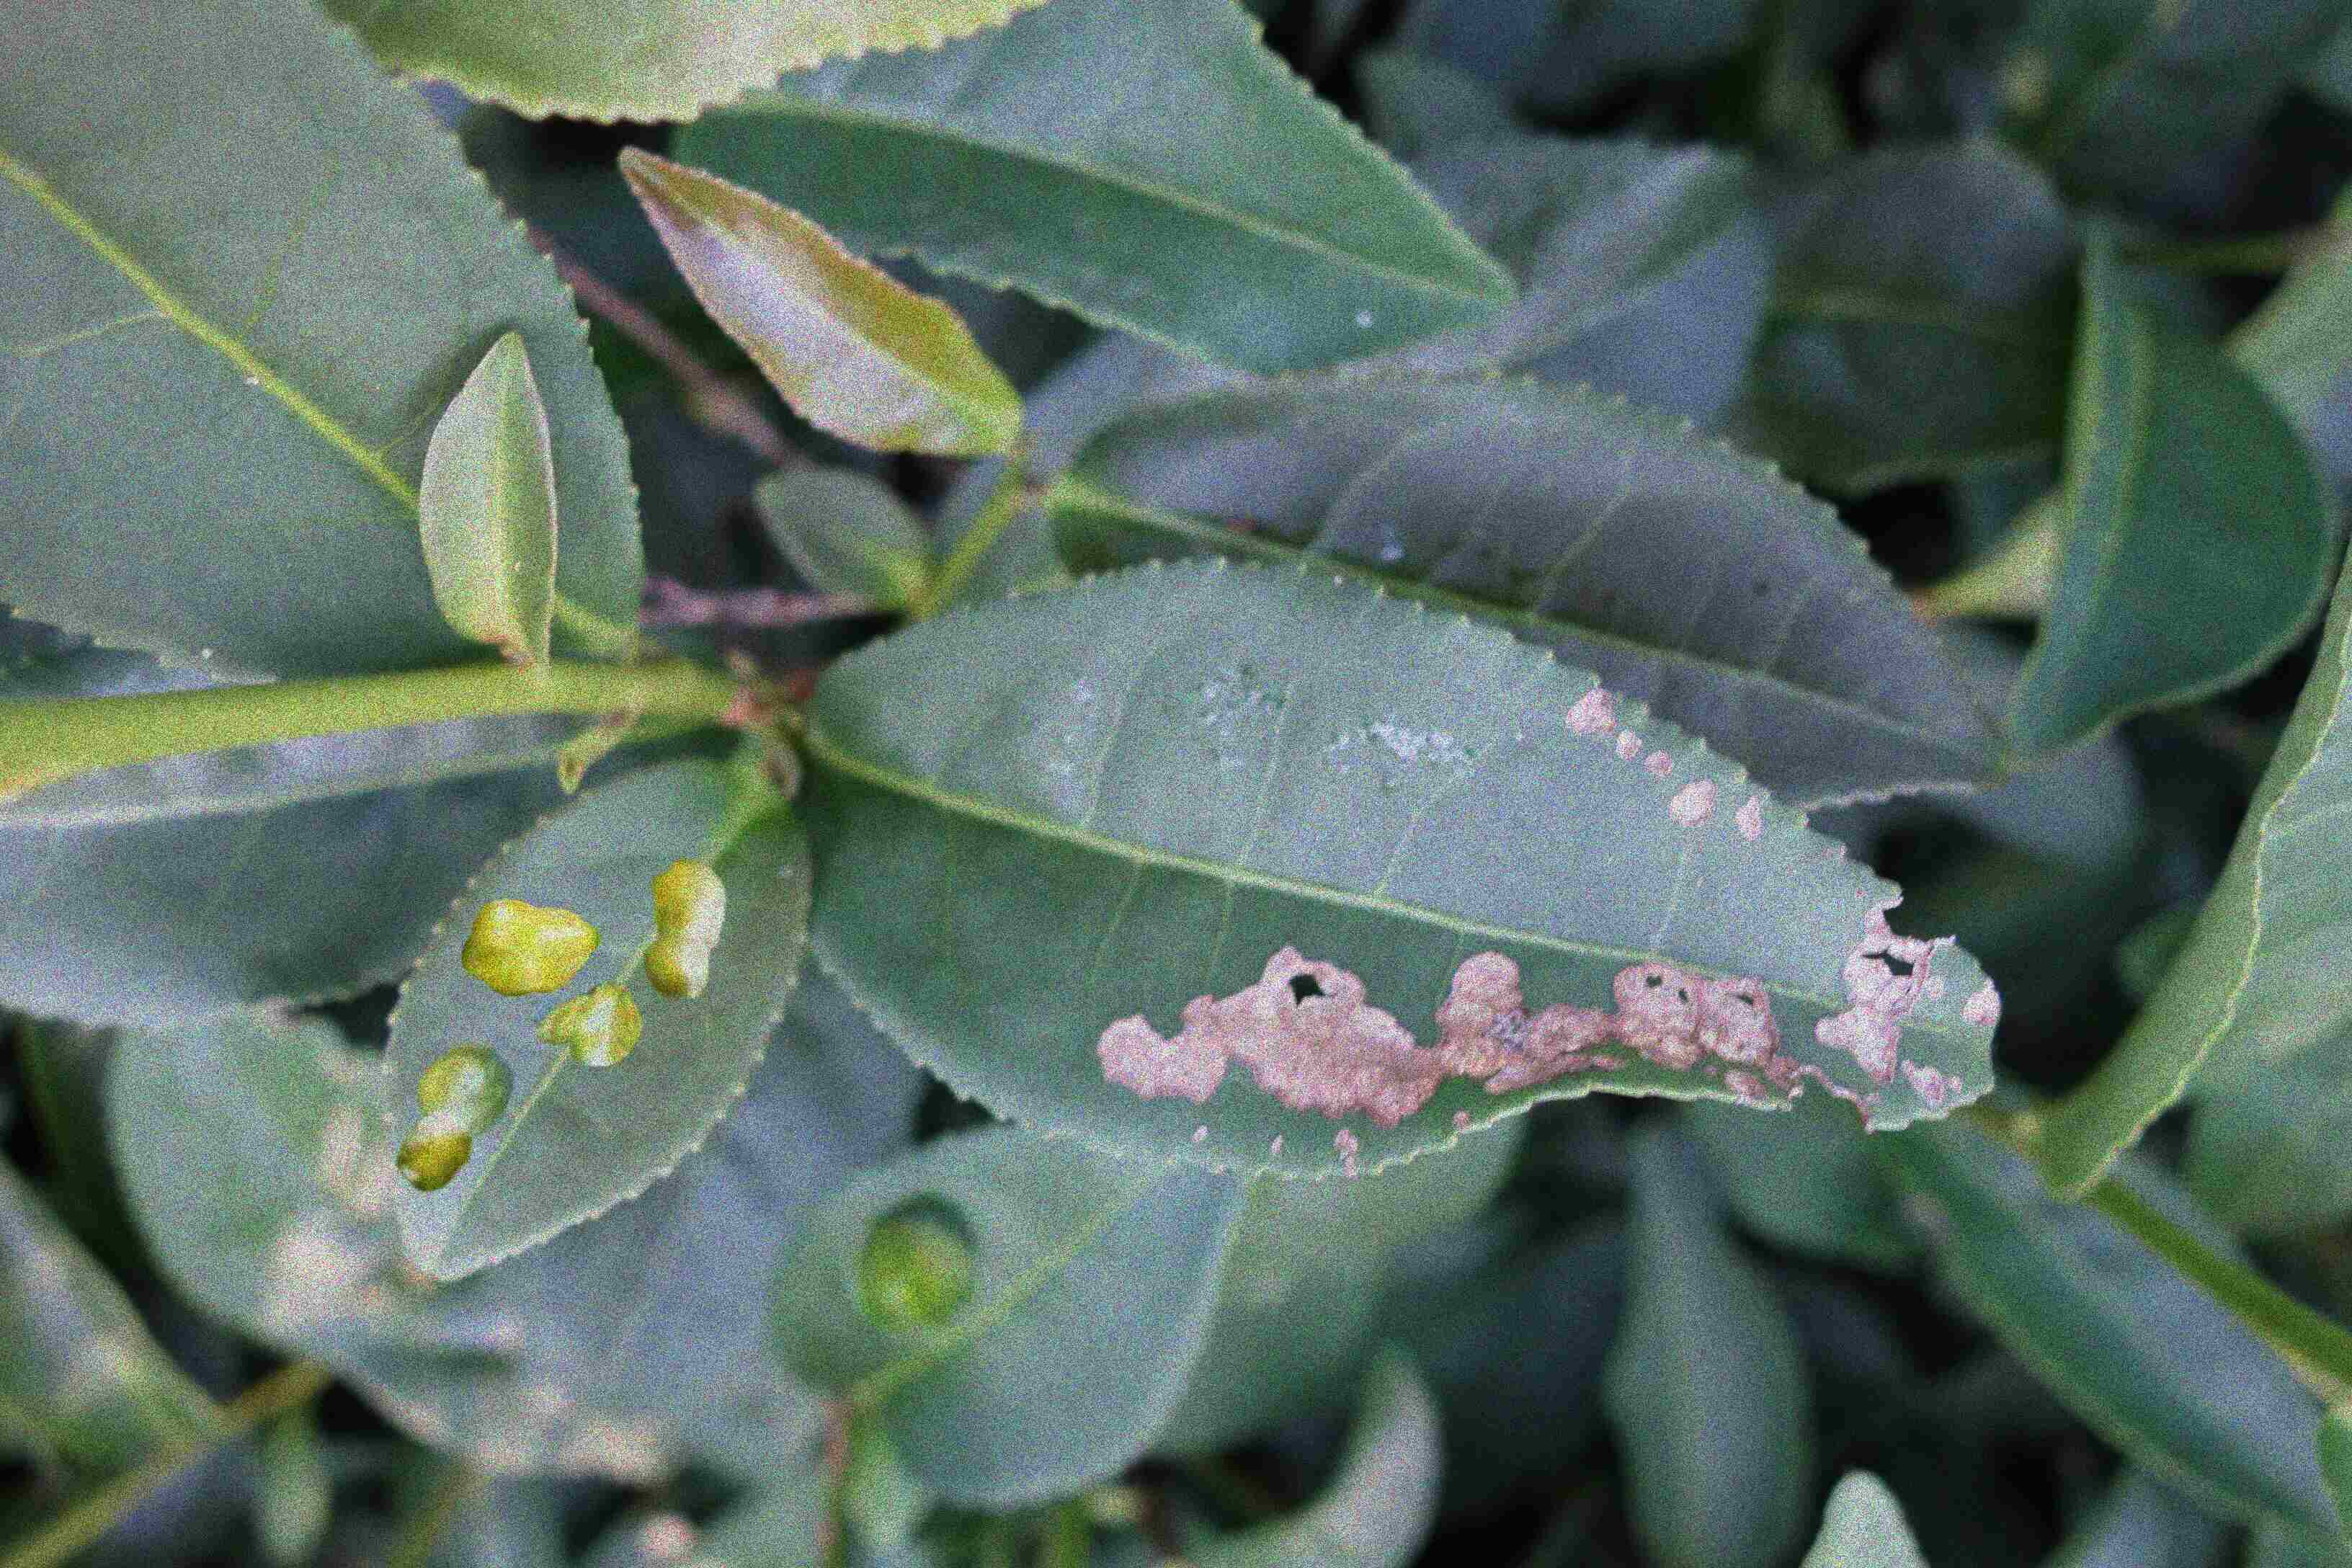chabing_high: (378, 759, 815, 1281)
chabing_low: (775, 1125, 1251, 1507)
healthy: (420, 325, 558, 668)
tanju_high: (803, 551, 2007, 1183)
tanju_low: (618, 138, 1029, 458)
